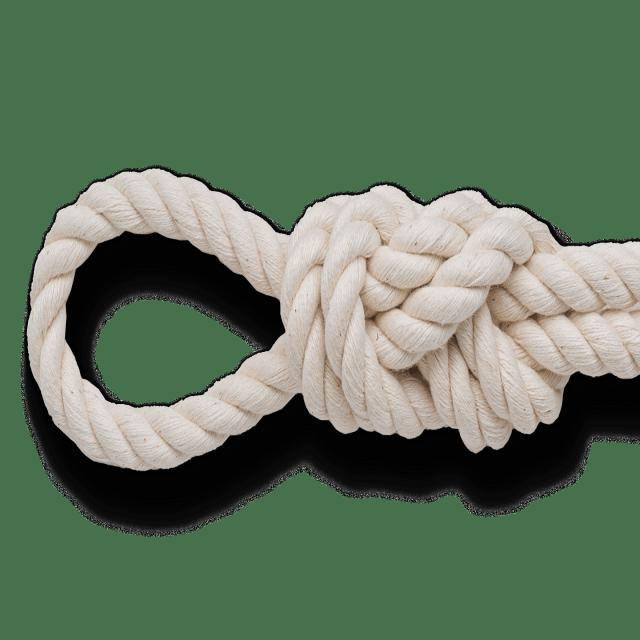Rope: (24, 145, 640, 516)
